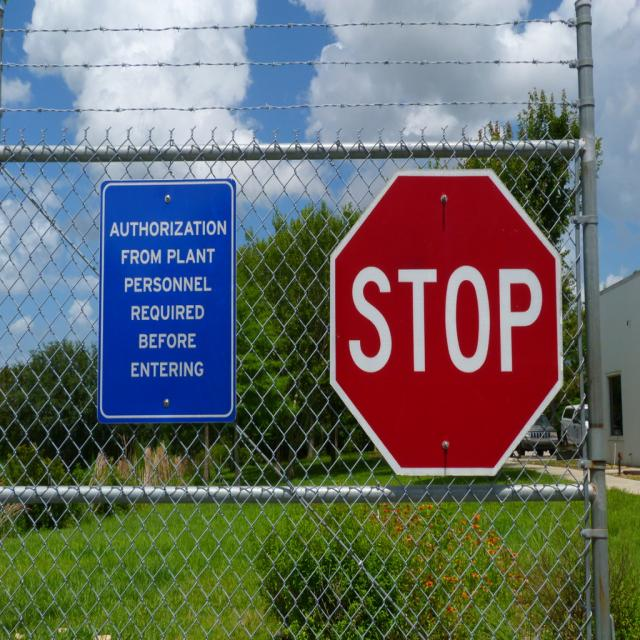Stop-sign: (329, 168, 564, 478)
